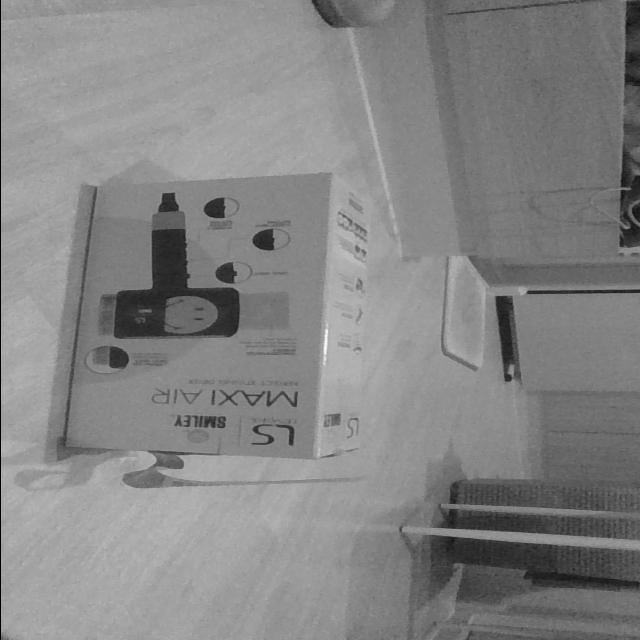Dryer: (61, 170, 377, 461)
